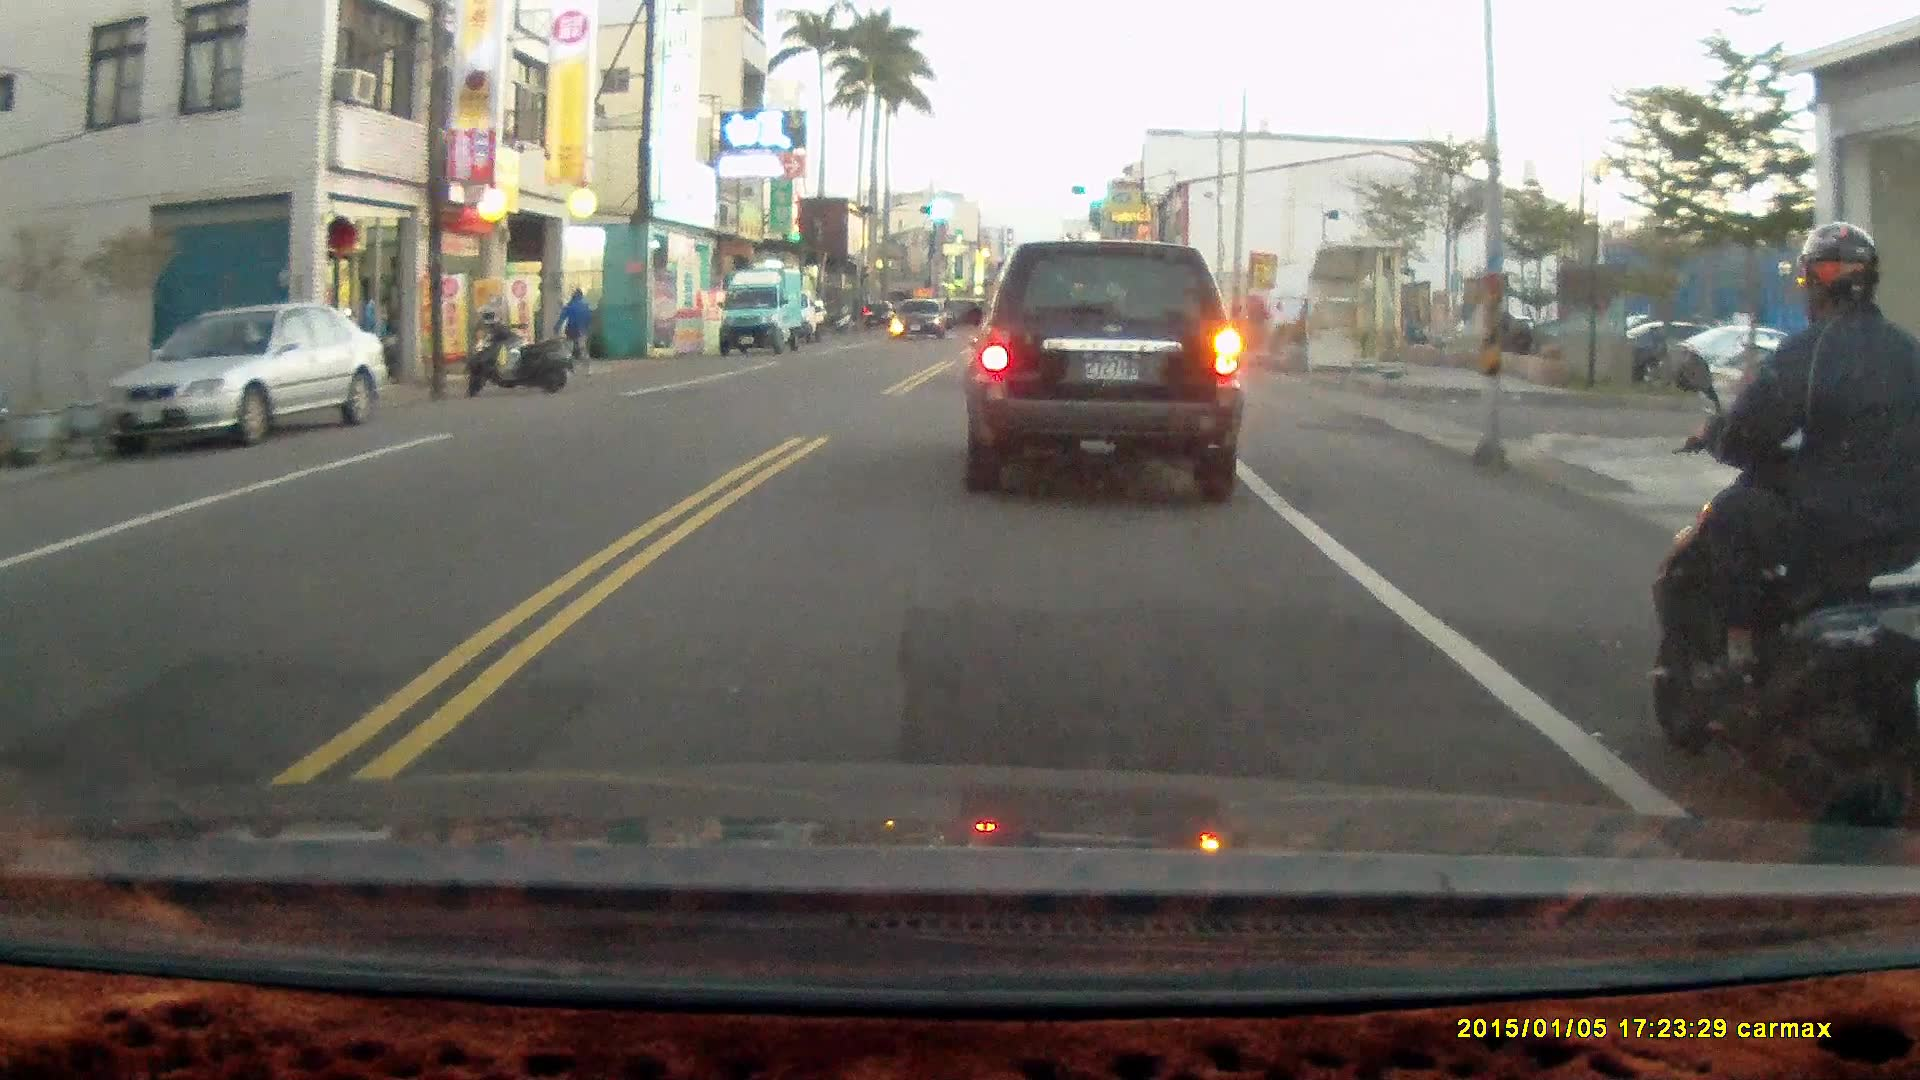pedestrian: (558, 282, 594, 375)
rider: (1647, 219, 1920, 874)
vehicle: (967, 235, 1247, 506), (114, 298, 397, 446), (1711, 341, 1911, 430), (716, 263, 806, 354), (892, 298, 949, 341)
